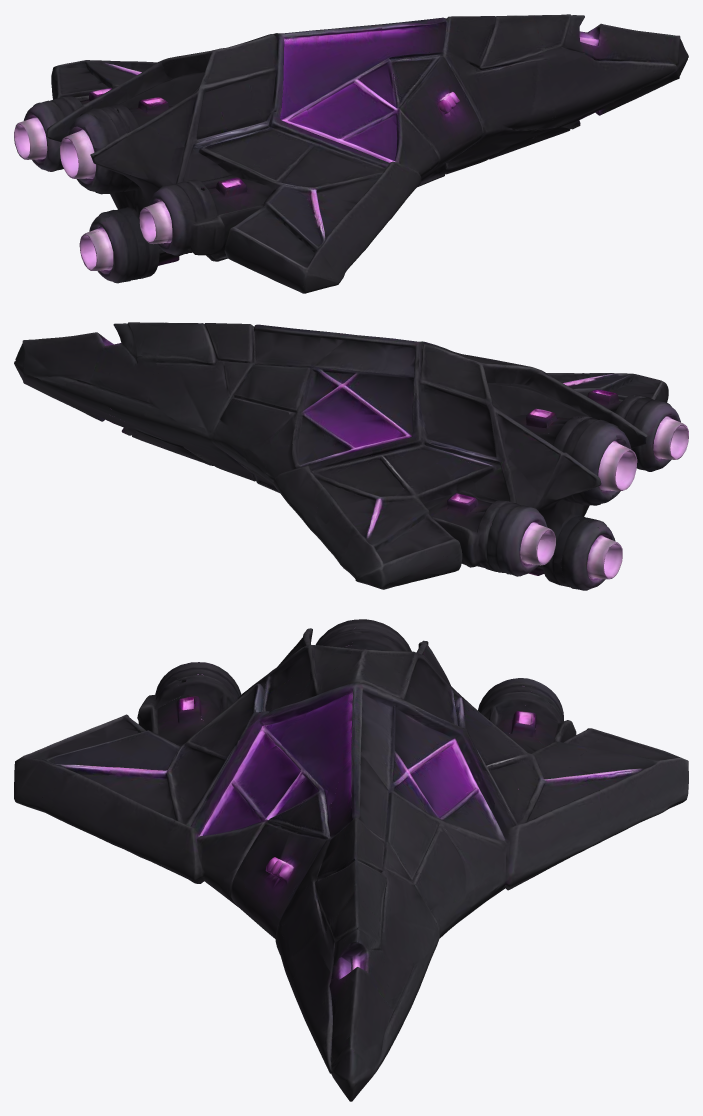
Rendered from specter_x.glb.
3 renders of one model, top to bottom at view 1: azimuth 30°, elevation 25°; view 2: azimuth 150°, elevation 25°; view 3: azimuth 270°, elevation 25°, orthographic. The views are drawn at different scales.
Parts seen in each view (by area): view 1: tripo_node_90d80c69-a0e1-4752-9880-7d61f767be36; view 2: tripo_node_90d80c69-a0e1-4752-9880-7d61f767be36; view 3: tripo_node_90d80c69-a0e1-4752-9880-7d61f767be36.
Boxes of the visible parts, x1=… form: tripo_node_90d80c69-a0e1-4752-9880-7d61f767be36: x1=14, y1=14, x2=688, y2=293; tripo_node_90d80c69-a0e1-4752-9880-7d61f767be36: x1=14, y1=322, x2=688, y2=590; tripo_node_90d80c69-a0e1-4752-9880-7d61f767be36: x1=14, y1=619, x2=688, y2=1101.
Size of the model in its own units: 2 by 0.6631 by 1.52.
1 material, 1 textured.
